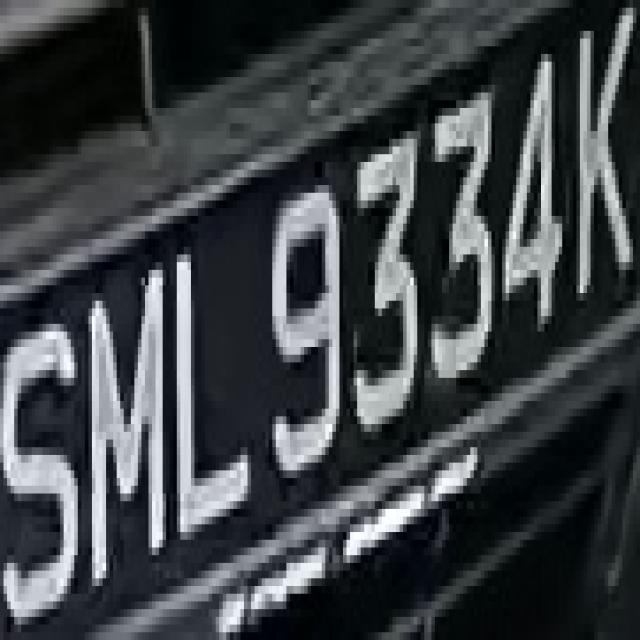3: (350, 108, 435, 439), (417, 77, 506, 386)
4: (491, 31, 573, 339)
9: (251, 147, 350, 501)
K: (566, 31, 629, 308)
L: (173, 208, 251, 532)
M: (82, 254, 174, 578)
